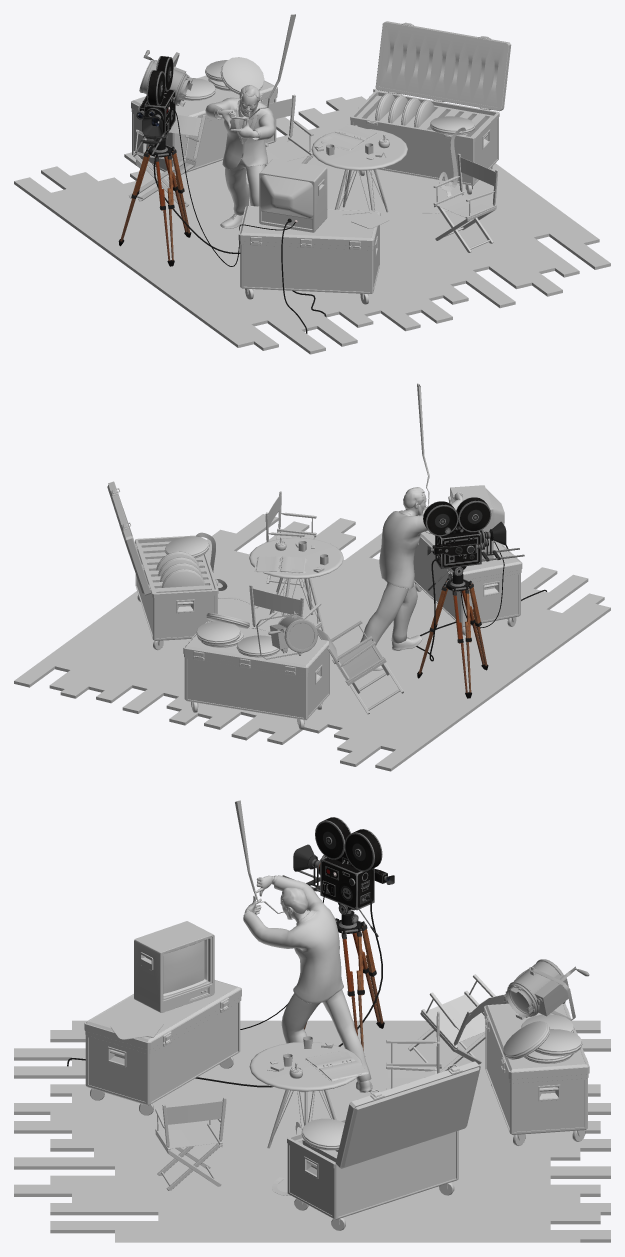
The picture shows the model from 3 angles, top to bottom: view 1: azimuth 30°, elevation 25°; view 2: azimuth 150°, elevation 25°; view 3: azimuth 270°, elevation 25°; orthographic projection. The views are drawn at different scales.
Visible parts, largest first — view 1: polySurface1534, polySurface1403, polySurface1398, polySurface1340, polySurface748, polySurface1399, polySurface1533, polySurface714, Setup:Mesh_Tops, polySurface1401, polySurface1404, polySurface1400 (+8 smaller); view 2: polySurface1534, polySurface1399, polySurface1403, polySurface1340, polySurface1398, polySurface1533, Setup:Mesh_Tops, polySurface714, polySurface1404, Setup:Mesh_Bottoms, A01_Projector:polySurface1, polySurface1400 (+5 smaller); view 3: polySurface1534, polySurface1403, polySurface1398, polySurface1399, polySurface1340, polySurface748, polySurface1533, Setup:Mesh_Tops, polySurface714, polySurface1401, polySurface1404, A01_Projector:polySurface1 (+8 smaller).
Part boxes in pixels (box(x1,y1,x2,y2)): polySurface1534: box(14, 88, 610, 351); polySurface1403: box(350, 21, 511, 194); polySurface1398: box(238, 206, 380, 304); polySurface1340: box(118, 56, 191, 266); polySurface748: box(259, 159, 327, 232); polySurface1399: box(131, 75, 277, 183); polySurface1533: box(14, 89, 610, 354); polySurface714: box(311, 129, 407, 212); Setup:Mesh_Tops: box(205, 97, 275, 169); polySurface1401: box(433, 153, 498, 252); polySurface1404: box(129, 115, 205, 206); polySurface1400: box(248, 94, 313, 187); polySurface1534: box(14, 514, 610, 768); polySurface1399: box(183, 621, 329, 729); polySurface1403: box(107, 481, 218, 650); polySurface1340: box(417, 497, 524, 698); polySurface1398: box(413, 531, 522, 635); polySurface1533: box(14, 518, 610, 771); Setup:Mesh_Tops: box(379, 499, 461, 588); polySurface714: box(249, 537, 343, 632); polySurface1404: box(313, 620, 403, 714); Setup:Mesh_Bottoms: box(360, 582, 417, 645); A01_Projector:polySurface1: box(256, 611, 317, 659); polySurface1400: box(249, 585, 321, 631); polySurface1534: box(14, 1020, 610, 1239); polySurface1403: box(287, 1061, 480, 1230); polySurface1398: box(84, 980, 241, 1115); polySurface1399: box(484, 1003, 589, 1146); polySurface1340: box(282, 817, 394, 1050); polySurface748: box(134, 921, 214, 1012); polySurface1533: box(14, 1030, 610, 1242); Setup:Mesh_Tops: box(243, 875, 343, 1003); polySurface714: box(249, 1042, 362, 1148); polySurface1401: box(155, 1097, 226, 1190); polySurface1404: box(408, 974, 508, 1073); A01_Projector:polySurface1: box(503, 959, 589, 1020).
Bounding box in the file's own units: 472 × 295 × 517.
